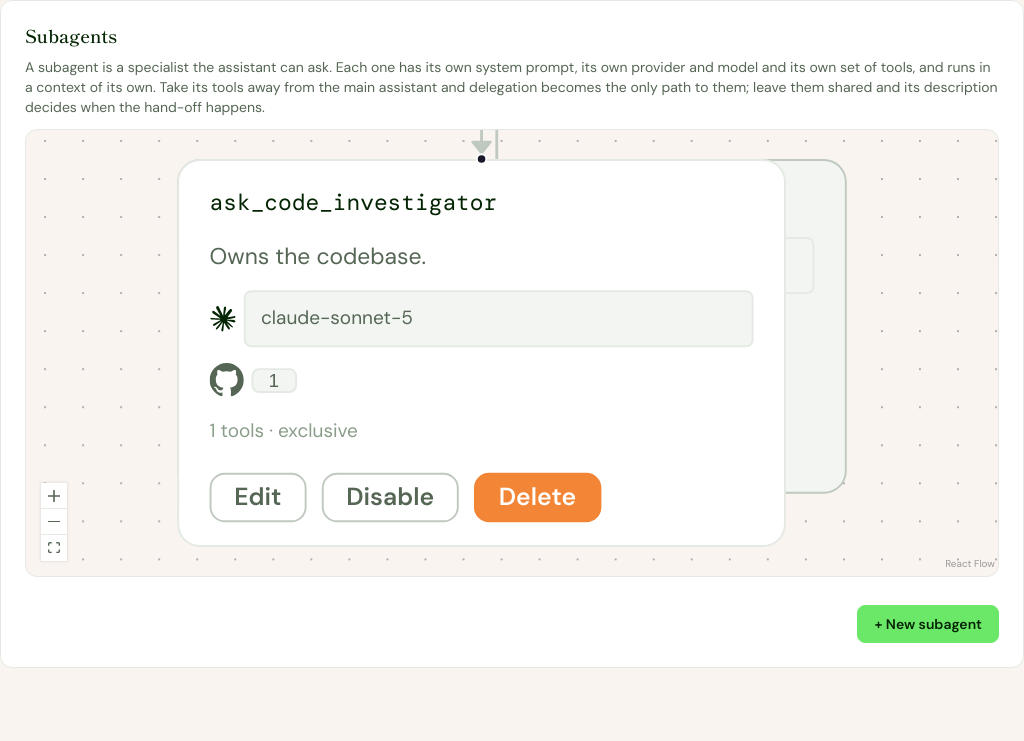
AdminSubagents › opens the form for a new subagent
Click the button "+ New subagent" at (928, 624), box [858,605,999,643]
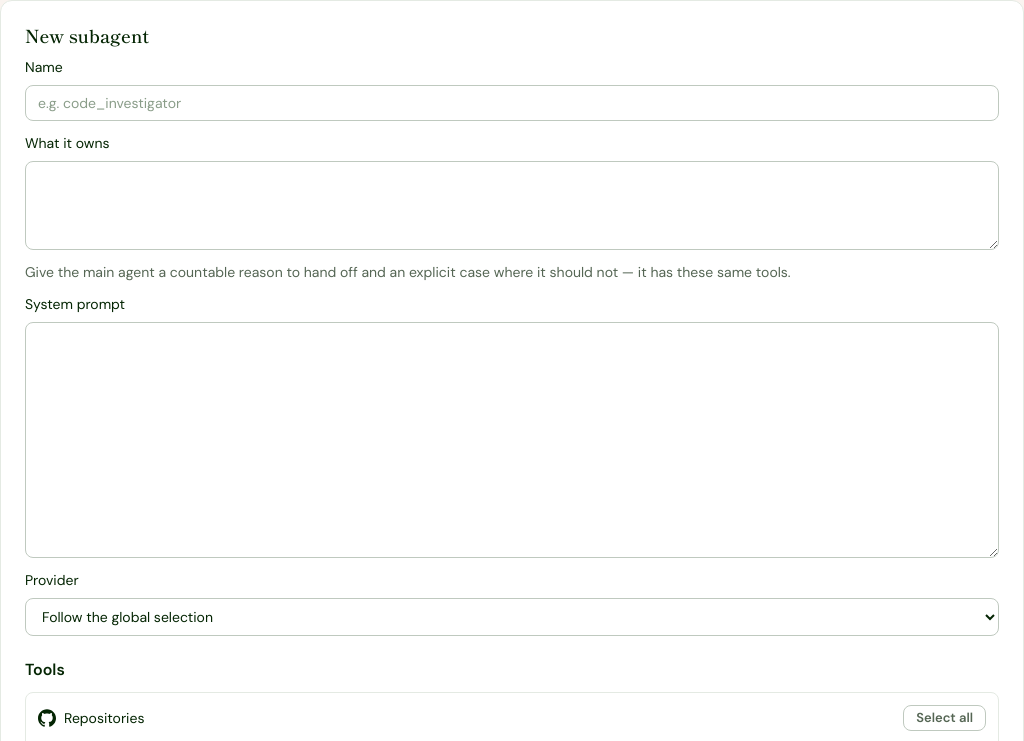
Now the heading "New subagent" is shown, box [25,22,149,48]
Now the field labelled "Name" is empty, box [25,85,999,121]
